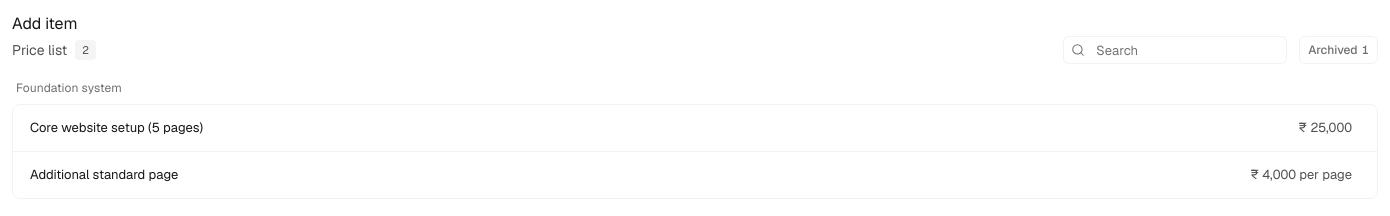
Test: editing a price in place › refuses letters as they are typed
Click the button named "Change the price of Core website setup (5 pages)" at (1325, 128), box [1289,113,1361,143]
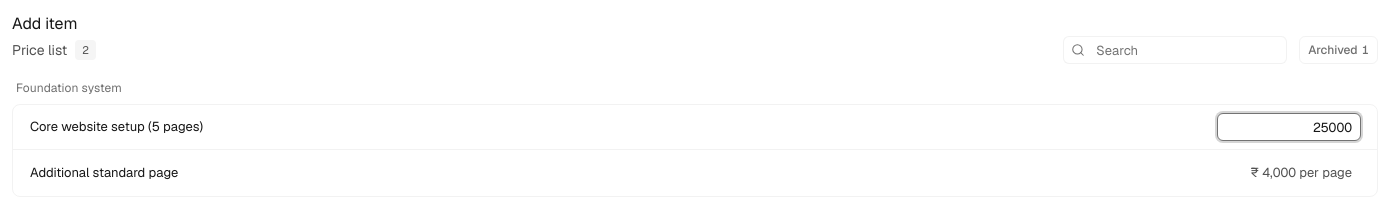
Replace the text in the field named "Price of Core website setup" with "2a8b0" at (1289, 127), box [1217,113,1361,141]
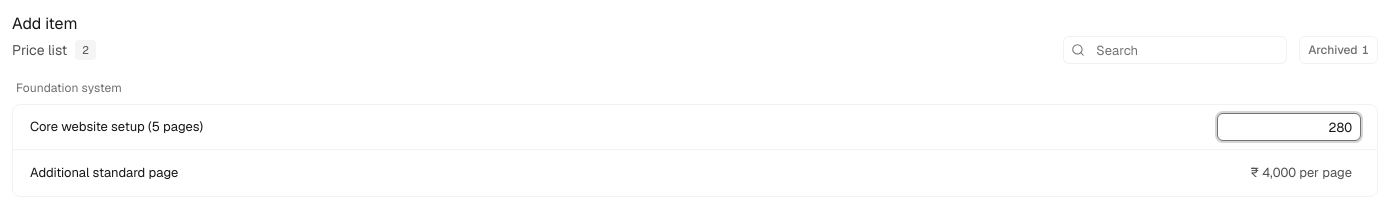
Check: the field named "Price of Core website setup" holds "280", box [1217,113,1361,141]
